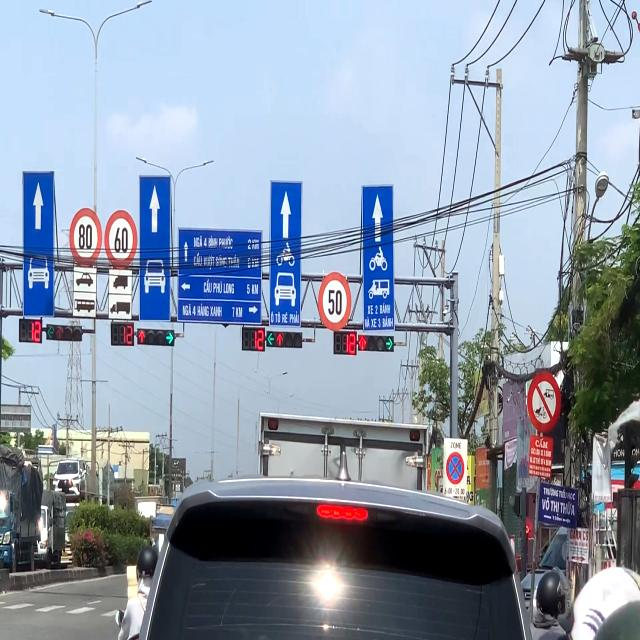P.127: (318, 269, 350, 333), (104, 208, 137, 269), (68, 208, 102, 266)
P.130: (446, 450, 466, 486)
